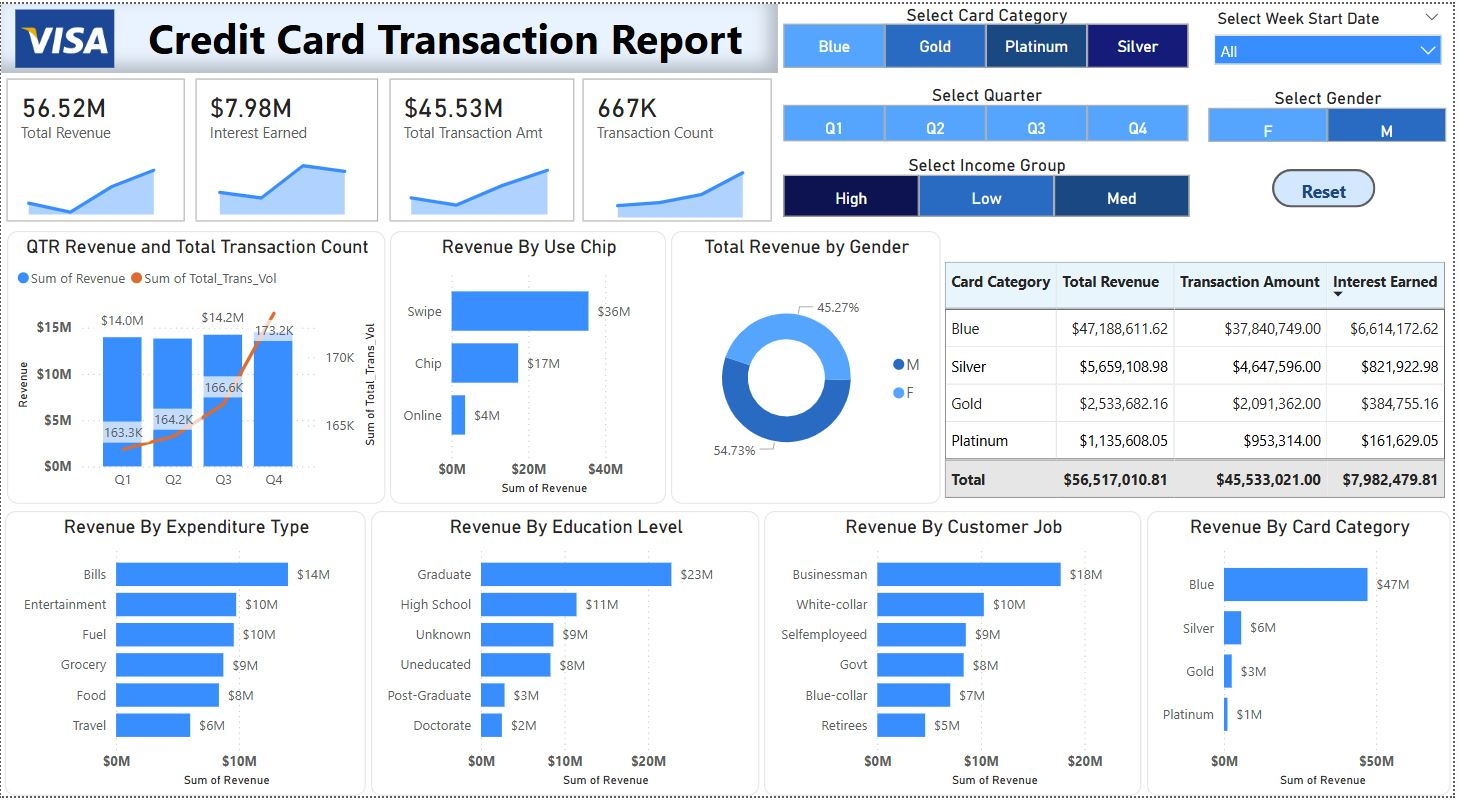

The page's visual inventory and layout, read from the dashboard file:
{"tool":"powerbi","page":{"name":"CC Transaction","canvas":[1320,720],"ordinal":0},"visuals":[{"type":"textbox","box":[0,0,706,63],"z":0},{"type":"lineStackedColumnComboChart","title":"QTR Revenue and Total Transaction Count","fields":{"Category":["credit_card.Qtr"],"Y":["Sum(credit_card.Revenue)"],"Y2":["Sum(credit_card.Total_Trans_Vol)"]},"box":[5,206,344.3,248],"z":1000,"group":"g1"},{"type":"clusteredBarChart","title":"Revenue By Expenditure Type","fields":{"Category":["credit_card.Exp_Type"],"Y":["Sum(credit_card.Revenue)"]},"box":[4,461,328,259],"z":1000},{"type":"clusteredBarChart","title":"Revenue By Education Level","fields":{"Y":["Sum(credit_card.Revenue)"],"Category":["customer.Education_Level"]},"box":[336,461,353,259],"z":2000},{"type":"clusteredBarChart","title":"Revenue By Use Chip","fields":{"Y":["Sum(credit_card.Revenue)"],"Category":["credit_card.Use_Chip"]},"box":[353.3,206,250.8,248],"z":3000,"group":"g1"},{"type":"tableEx","fields":{"Values":["credit_card.Card_Category","Sum(credit_card.Revenue)","Sum(credit_card.Total_Trans_Amt)","Sum(credit_card.Interest_Earned)"]},"box":[852,229,468,225],"z":3000},{"type":"clusteredBarChart","title":"Revenue By Customer Job","fields":{"Y":["Sum(credit_card.Revenue)"],"Category":["customer.Customer_Job"]},"box":[694,461,343,259],"z":4000},{"type":"slicer","fields":{"Values":["credit_card.Week_Start_Date"]},"box":[1093,0,227,63],"z":5000},{"type":"clusteredBarChart","title":"Revenue By Card Category","fields":{"Y":["Sum(credit_card.Revenue)"],"Category":["credit_card.Card_Category"]},"box":[1042,461,276,259],"z":6000},{"type":"advancedSlicerVisual","title":"Select Card Category","fields":{"Values":["credit_card.Card_Category"]},"box":[706,0,380,63],"z":7000},{"type":"advancedSlicerVisual","title":"Select Gender","fields":{"Values":["customer.Gender"]},"box":[1093,75,227,55],"z":8000},{"type":"actionButton","box":[1155,150,94,35],"z":9000},{"type":"cardVisual","title":"Total Revenue","fields":{"Data":["credit_card.Total Revenue"]},"box":[0,63,172,140],"z":10000},{"type":"advancedSlicerVisual","title":"Select Income Group","fields":{"Values":["customer.Income Group"]},"box":[706,136,380,62],"z":11000},{"type":"advancedSlicerVisual","title":"Select Quarter","fields":{"Values":["credit_card.Qtr"]},"box":[706,73,380,57],"z":12000},{"type":"cardVisual","title":"Total Revenue","fields":{"Data":["Sum(credit_card.Interest_Earned)"]},"box":[172,63,176,140],"z":13000},{"type":"cardVisual","title":"Total Revenue","fields":{"Data":["Sum(credit_card.Total_Trans_Amt)"]},"box":[348,63,178,140],"z":14000},{"type":"cardVisual","title":"Total Revenue","fields":{"Data":["Sum(credit_card.Total_Trans_Vol)"]},"box":[524,63,182,140],"z":15000},{"type":"group","id":"g1","title":"Group 1","box":[5,206,848,248],"z":16000},{"type":"areaChart","fields":{"Y":["credit_card.Total Revenue"],"Category":["credit_card.Qtr"]},"box":[10,136,144,55],"z":17000},{"type":"donutChart","fields":{"Category":["customer.Gender"],"Y":["credit_card.Total Revenue"]},"box":[608.2,206,244.8,248],"z":18000,"group":"g1"},{"type":"areaChart","fields":{"Y":["Sum(credit_card.Interest_Earned)"],"Category":["credit_card.Qtr"]},"box":[184,136,144,55],"z":18000},{"type":"areaChart","fields":{"Y":["Sum(credit_card.Total_Trans_Amt)"],"Category":["credit_card.Qtr"]},"box":[356,136,157,55],"z":19000},{"type":"areaChart","fields":{"Y":["Sum(credit_card.Total_Trans_Vol)"],"Category":["credit_card.Qtr"]},"box":[545,139,144,55],"z":20000},{"type":"image","box":[0,0,116,63],"z":21000}]}

Visuals, with their boxes in screenshot pixels (x1, y1, x2, y2), scaled from the page's 1320x720 canvas onto the 1460x801 screenshot:
textbox: [0, 0, 781, 70]
"QTR Revenue and Total Transaction Count" lineStackedColumnComboChart: [6, 229, 386, 505]
"Revenue By Expenditure Type" clusteredBarChart: [4, 513, 367, 800]
"Revenue By Education Level" clusteredBarChart: [372, 513, 762, 800]
"Revenue By Use Chip" clusteredBarChart: [391, 229, 668, 505]
tableEx - credit_card.Card_Category x Sum(credit_card.Revenue): [942, 255, 1459, 505]
"Revenue By Customer Job" clusteredBarChart: [768, 513, 1147, 800]
slicer - credit_card.Week_Start_Date: [1209, 0, 1459, 70]
"Revenue By Card Category" clusteredBarChart: [1153, 513, 1458, 800]
"Select Card Category" advancedSlicerVisual: [781, 0, 1201, 70]
"Select Gender" advancedSlicerVisual: [1209, 83, 1459, 145]
actionButton: [1278, 167, 1381, 206]
"Total Revenue" cardVisual: [0, 70, 190, 226]
"Select Income Group" advancedSlicerVisual: [781, 151, 1201, 220]
"Select Quarter" advancedSlicerVisual: [781, 81, 1201, 145]
"Total Revenue" cardVisual: [190, 70, 385, 226]
"Total Revenue" cardVisual: [385, 70, 582, 226]
"Total Revenue" cardVisual: [580, 70, 781, 226]
"Group 1" group: [6, 229, 943, 505]
areaChart - credit_card.Total Revenue x credit_card.Qtr: [11, 151, 170, 212]
donutChart - customer.Gender x credit_card.Total Revenue: [673, 229, 943, 505]
areaChart - Sum(credit_card.Interest_Earned) x credit_card.Qtr: [204, 151, 363, 212]
areaChart - Sum(credit_card.Total_Trans_Amt) x credit_card.Qtr: [394, 151, 567, 212]
areaChart - Sum(credit_card.Total_Trans_Vol) x credit_card.Qtr: [603, 155, 762, 216]
image: [0, 0, 128, 70]
